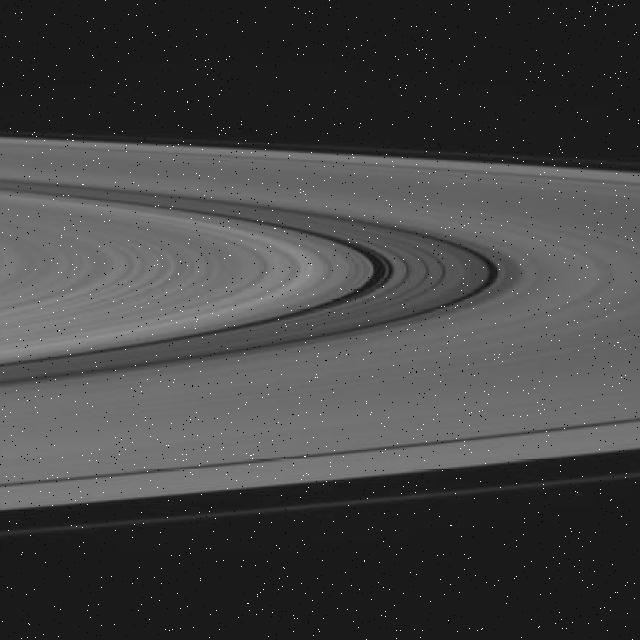Saturn: (0, 127, 640, 537)
